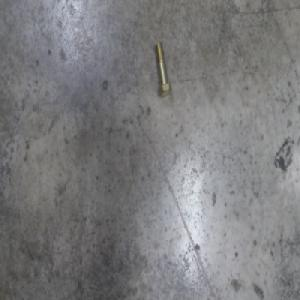Bolt: (155, 40, 172, 97)
